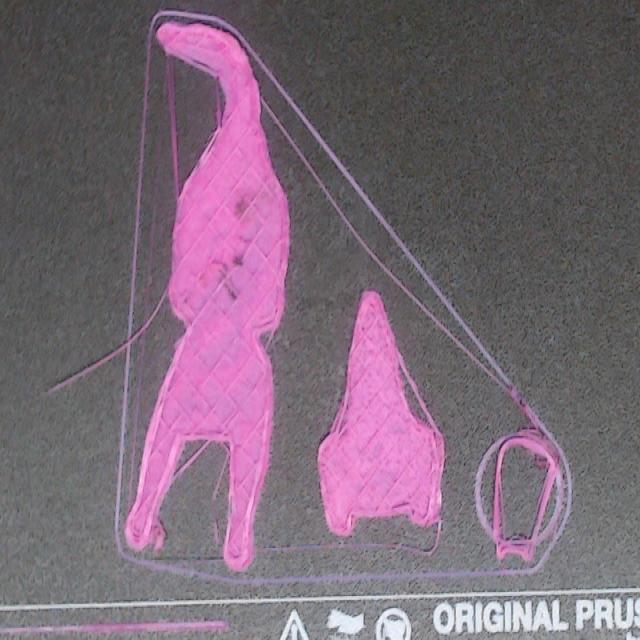mistake: (151, 11, 571, 531), (126, 23, 289, 568), (318, 291, 444, 548), (52, 291, 166, 389), (492, 429, 559, 560), (400, 353, 439, 433), (345, 220, 395, 279), (166, 59, 180, 199), (175, 441, 210, 479), (306, 160, 328, 195), (213, 453, 228, 500), (149, 517, 165, 551), (215, 80, 223, 129), (290, 140, 302, 157), (266, 331, 277, 347), (215, 520, 219, 539)
